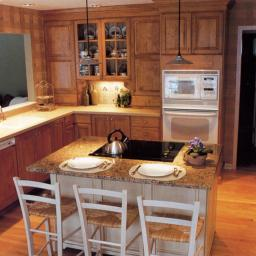Electrodomestico: (87, 133, 186, 162)
